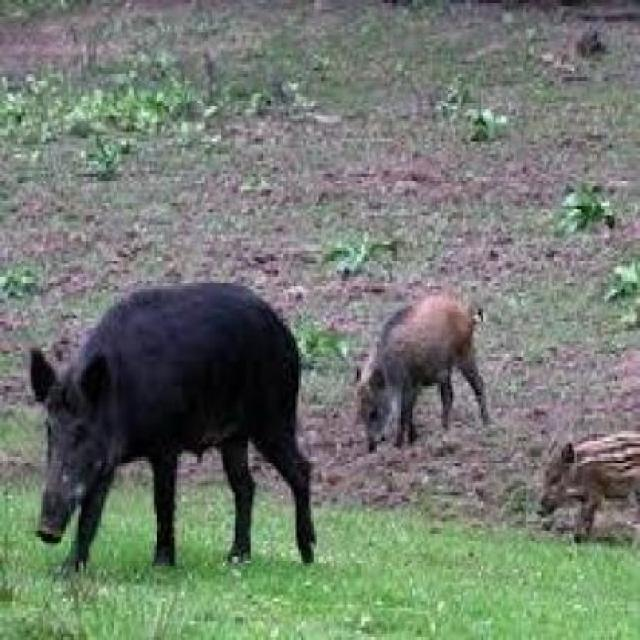wildboar: (26, 274, 322, 584), (350, 288, 492, 458), (534, 427, 640, 544)
